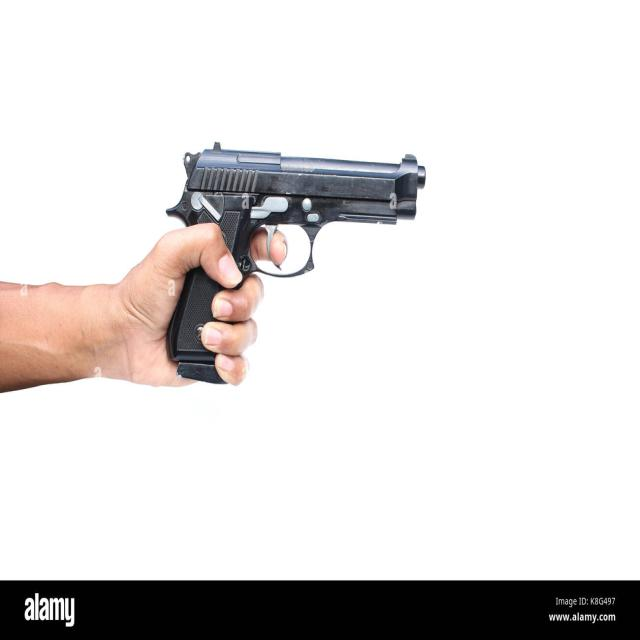HandGun: (166, 143, 426, 385)
